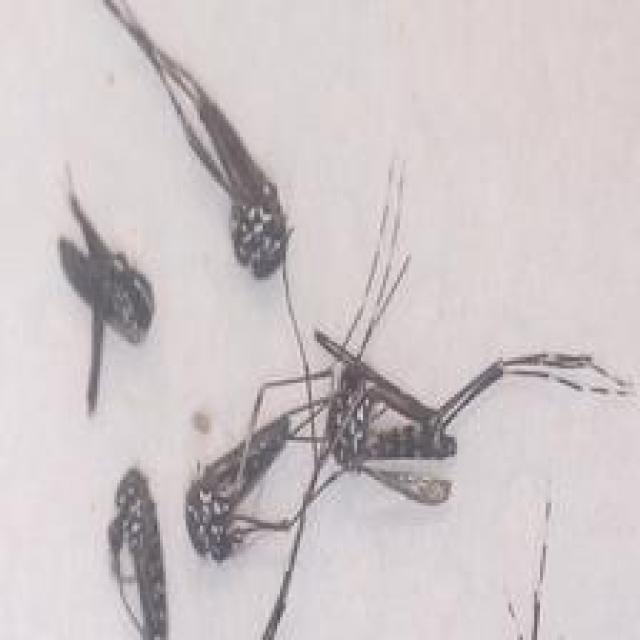Aedes albopictus: (56, 160, 156, 414)
